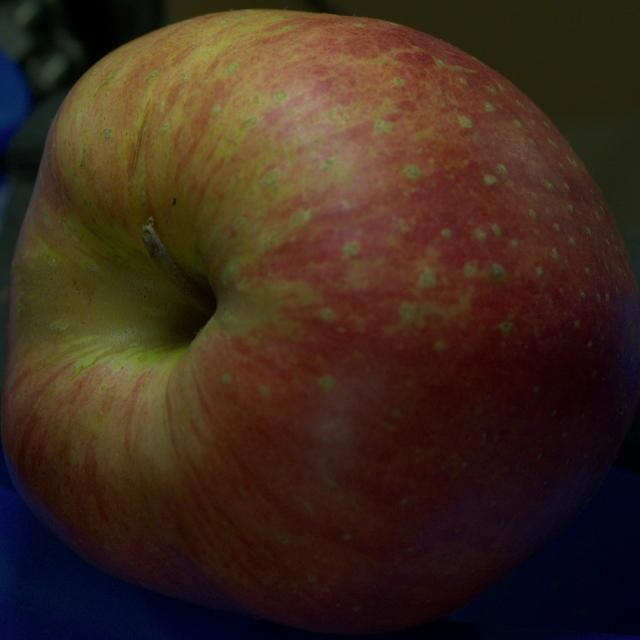apple: (2, 10, 639, 632)
scratch: (132, 101, 149, 171)
